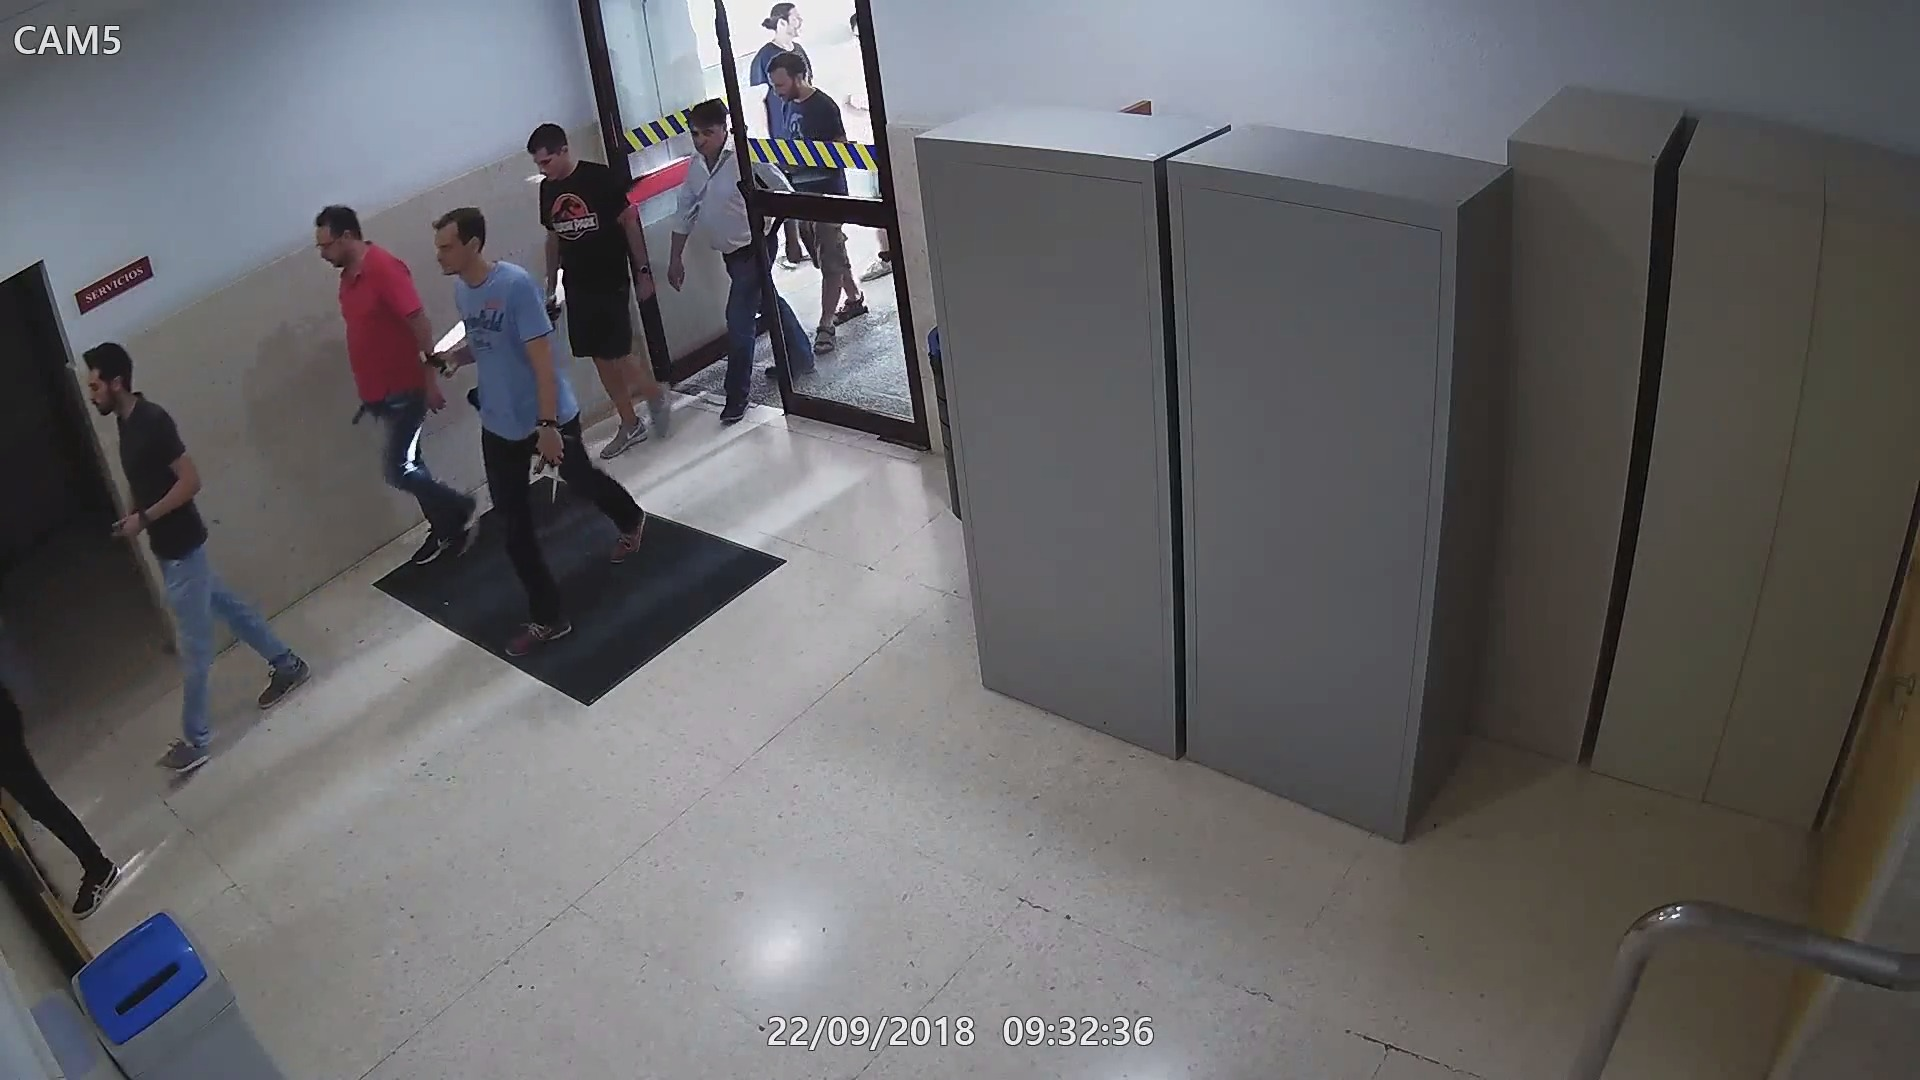Handgun: (527, 436, 571, 485), (107, 512, 146, 543), (541, 285, 567, 323), (349, 401, 376, 430)
Knife: (535, 433, 567, 504)
